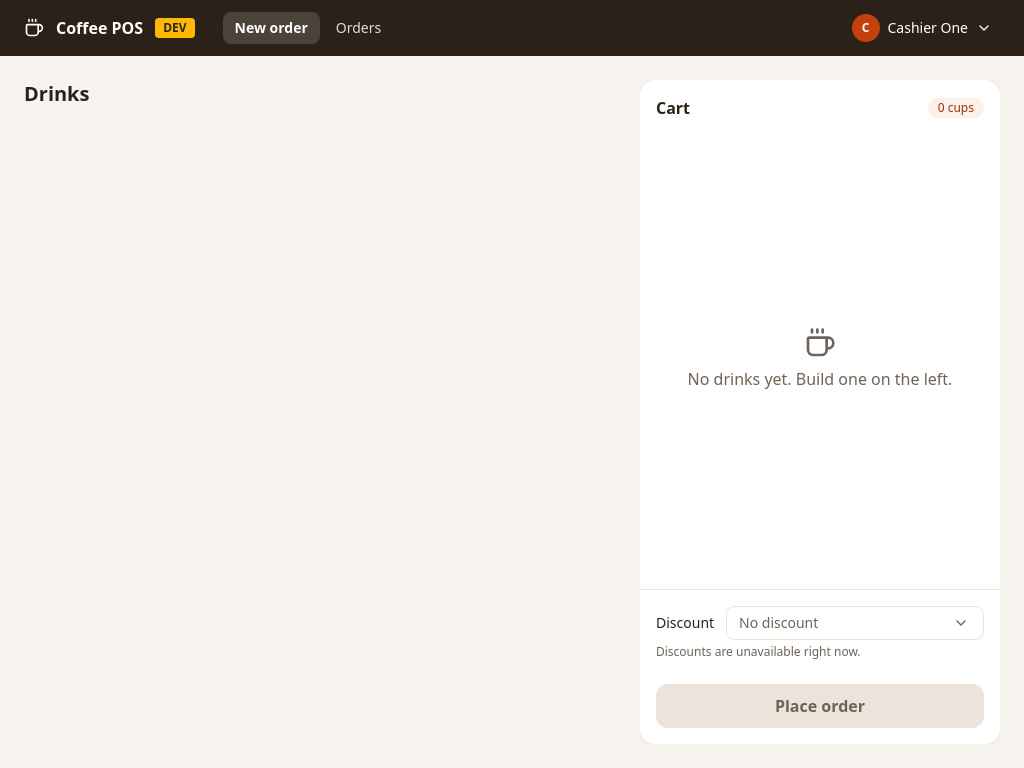
Scenario: UserMenu › switches language and stays open
Click the button "C Cashier One" at (924, 28), box 848,10 -> 1000,46
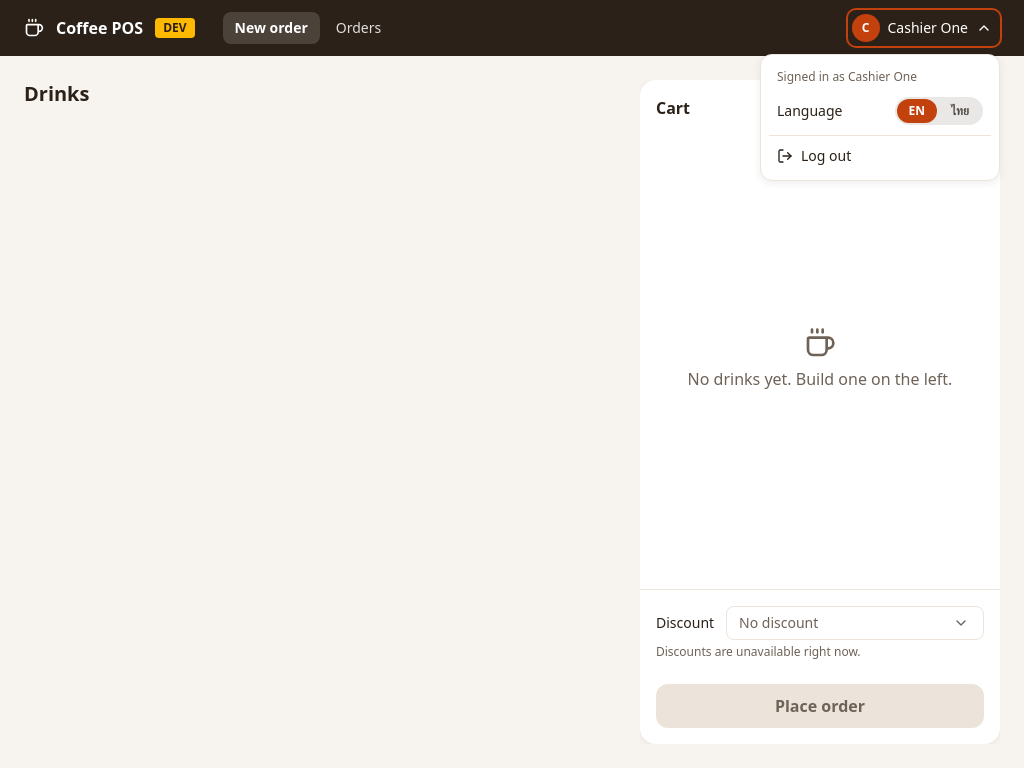
Click the button "ไทย" at (960, 111), box 939,99 -> 981,123
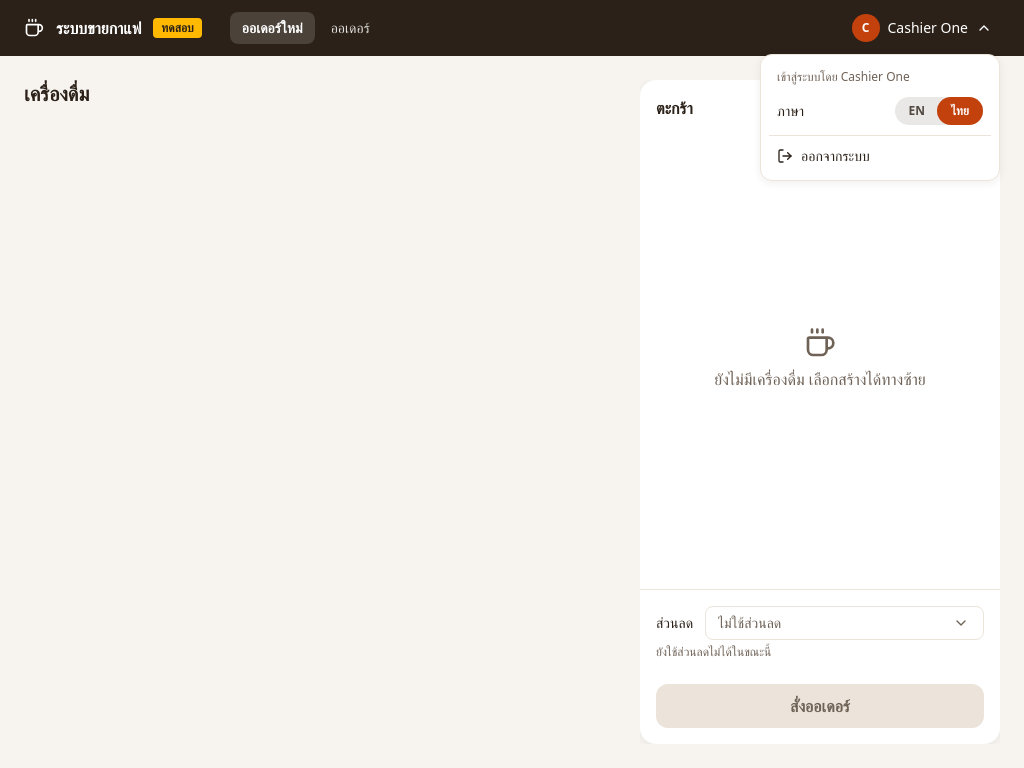
Expected: the button "ออกจากระบบ" is shown, 769,140 -> 991,172
